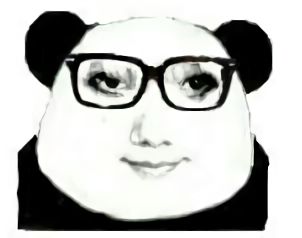dragon: (84, 62, 222, 175)
